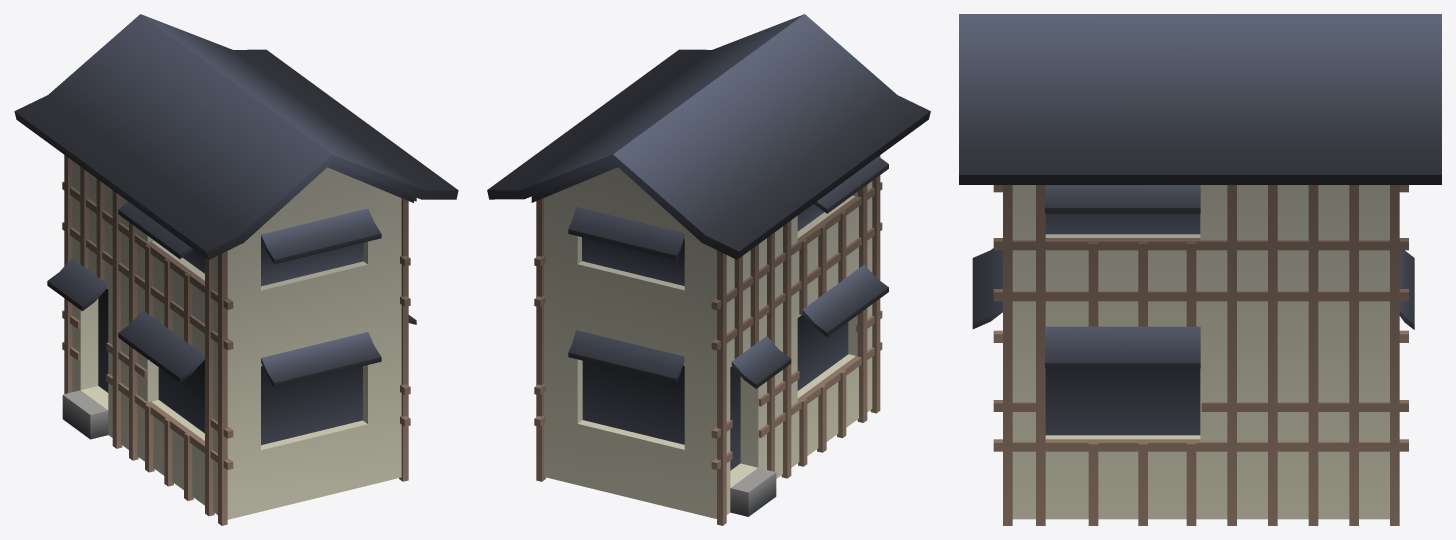
File: House1Lit.fbx
3 views of the same model, side by side, from view 1: azimuth 30°, elevation 25°; view 2: azimuth 150°, elevation 25°; view 3: azimuth 270°, elevation 25° (orthographic). The views are drawn at different scales.
Visible parts, largest first — view 1: house1; view 2: house1; view 3: house1.
Boxes of the visible parts, x1,y1,x2,y2 form: house1: (14, 14, 458, 525); house1: (487, 14, 930, 525); house1: (959, 14, 1441, 525).
Bounding box in the file's own units: 220 × 301 × 290.
